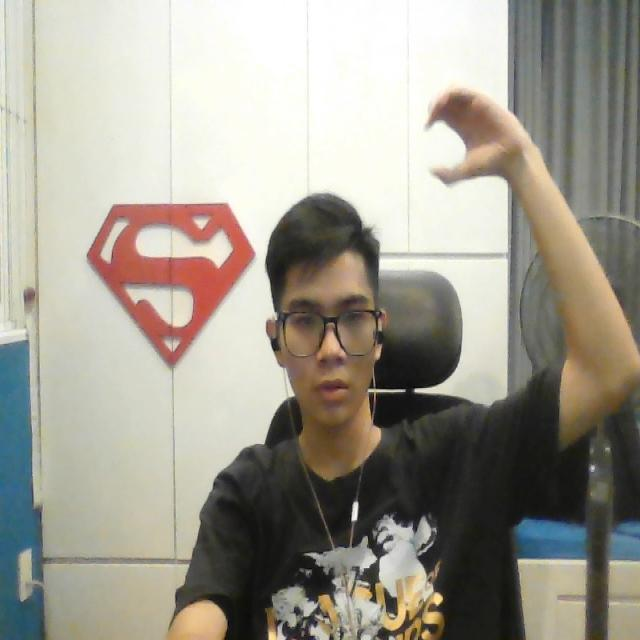C: (422, 82, 512, 187)
